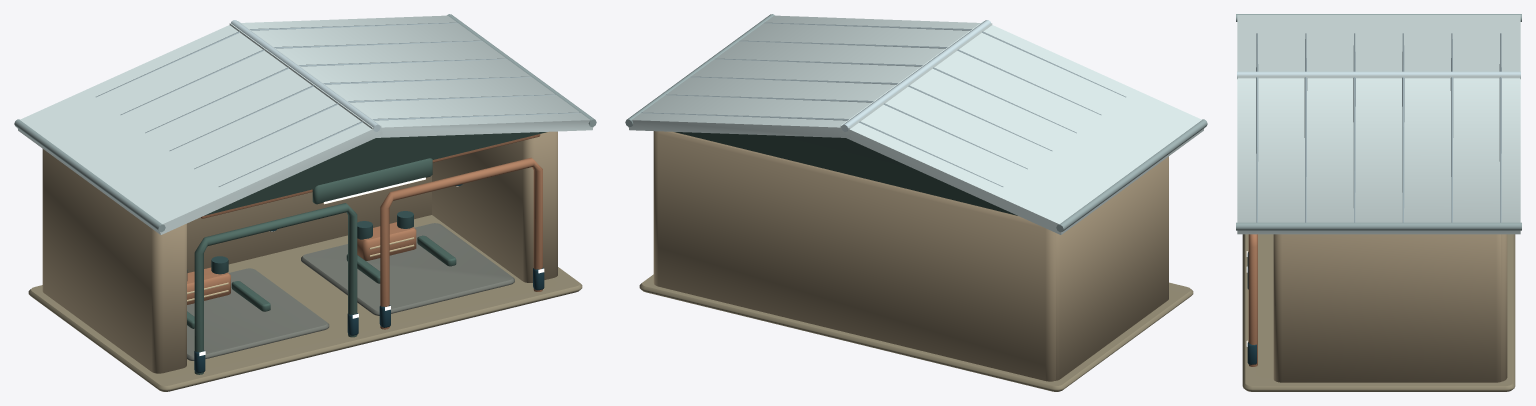
File: wilderness_truck_service.glb
The picture shows the model from 3 angles, left to right: view 1: azimuth 30°, elevation 25°; view 2: azimuth 150°, elevation 25°; view 3: azimuth 270°, elevation 25°; orthographic projection.
Visible parts, largest first — view 1: WildernessTruckService; view 2: WildernessTruckService; view 3: WildernessTruckService.
Part boxes in pixels (x1,y1,x2,y2): WildernessTruckService: [14, 14, 596, 391]; WildernessTruckService: [625, 14, 1207, 391]; WildernessTruckService: [1236, 14, 1521, 391].
Size of the model in its own units: 12.39 by 5.95 by 7.05.
